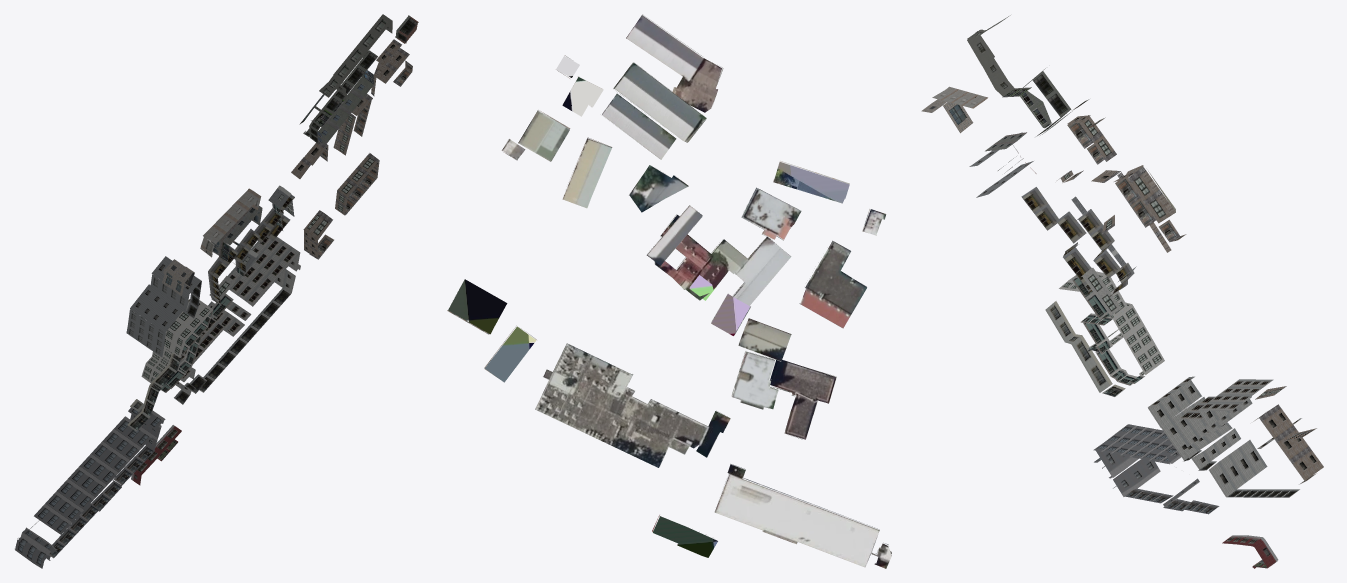
Rendered from tile_LOD4_r13_c7.glb.
3 views of the same model, side by side, from view 1: azimuth 30°, elevation 25°; view 2: azimuth 150°, elevation 25°; view 3: azimuth 270°, elevation 25° (orthographic). The views are drawn at different scales.
Size of the model in its own units: 149 by 170 by 94.5.
Materials: 80 (80 with a texture image).
